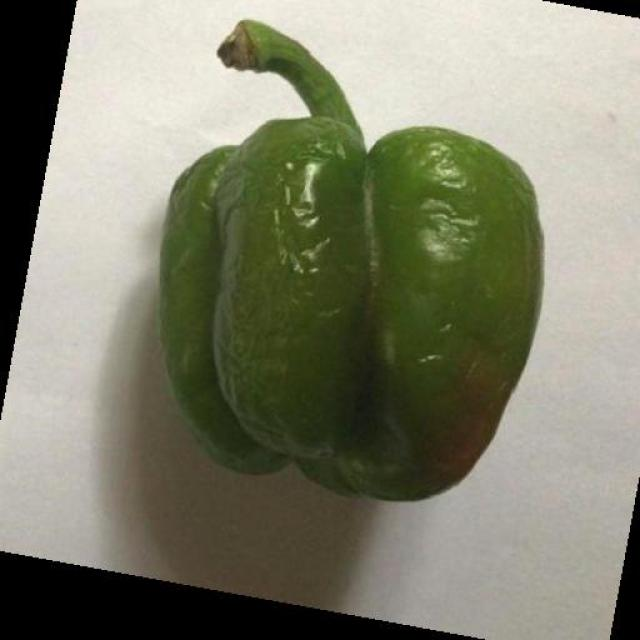Stale_Capsicum: (149, 117, 570, 510)
